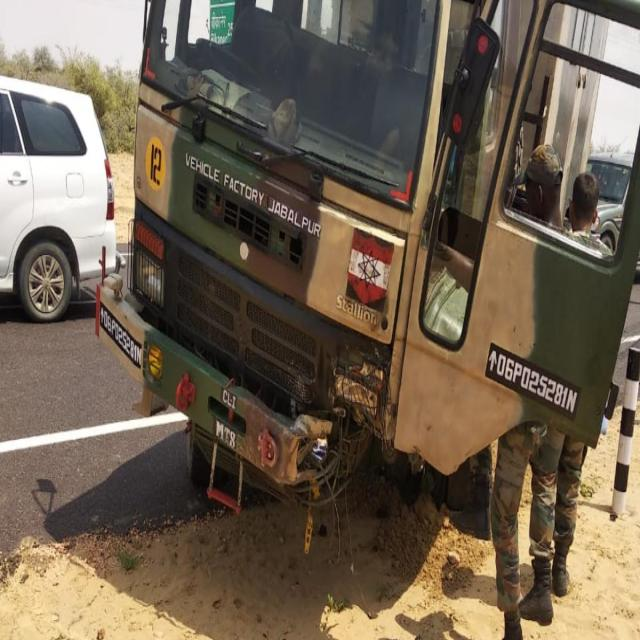car: (0, 76, 119, 322)
truck: (95, 0, 640, 504)
